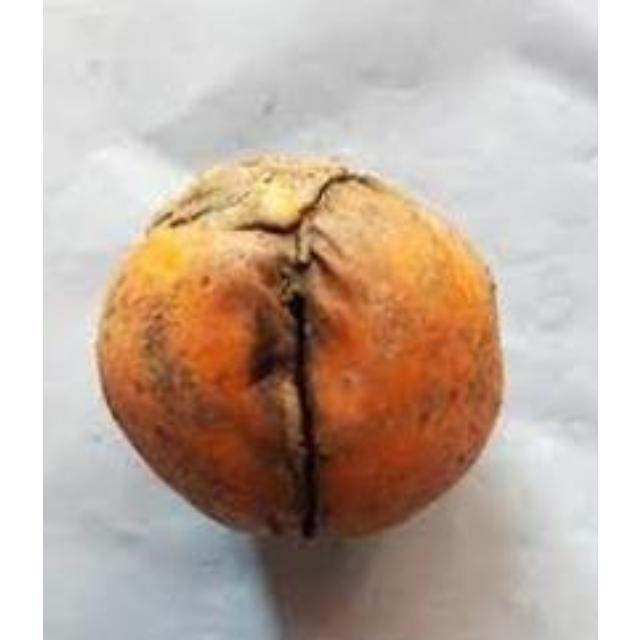damaged: (90, 151, 504, 550)
